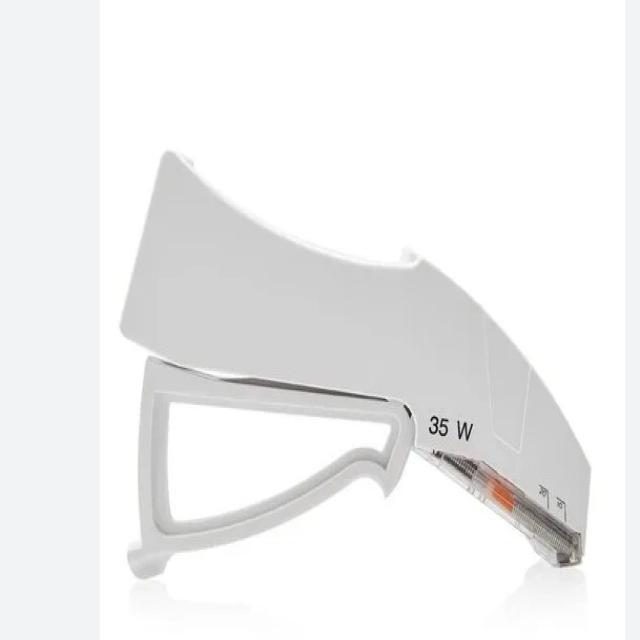Skin Stapler: (115, 148, 599, 588)
